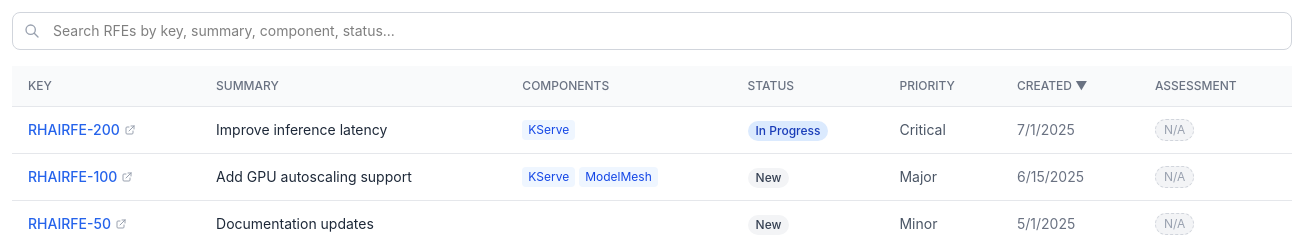
Test case: RfeBacklogTable › filters issues by search query
Type "GPU" into the field with placeholder "Search RFEs by key, summary, component, status...".
click(652, 31); type("GPU")  # box [12,12,1292,50]
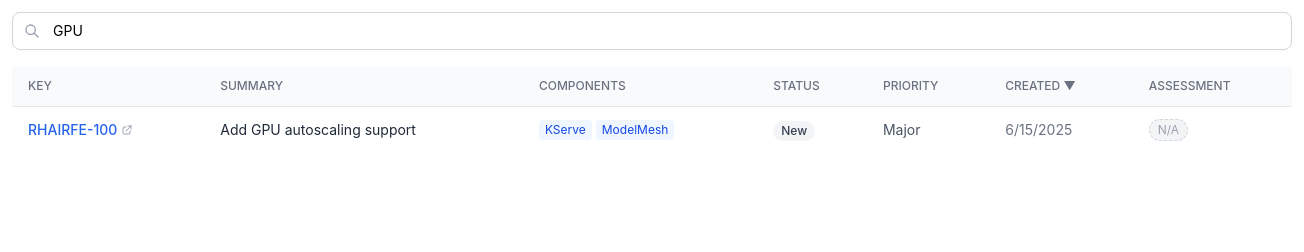
Check: the text "RHAIRFE-100" is shown, box [28,120,117,140]
Check: the text "RHAIRFE-200" is gone
Check: the text "RHAIRFE-50" is gone
